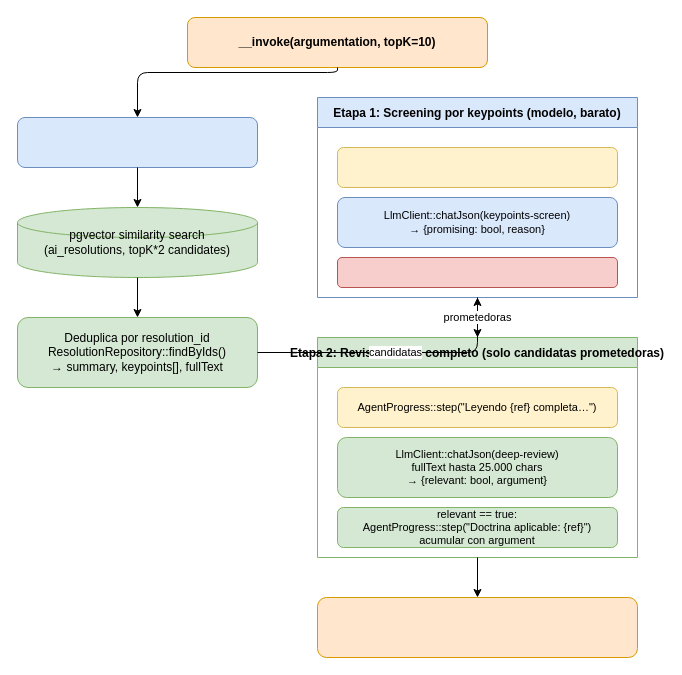
The diagram is 682 pixels wide and 675 high, and some of its shapes have lost their labels. The shapes that lost their labels are listed below. From the top down, each one's centre as x and y in pixels, then its label:
the point at 137,142: EmbeddingGenerator::generate(query)
the point at 477,167: AgentProgress::step("Comprobando {ref}…")
the point at 477,272: promising == false → descartar
the point at 477,627: formatRelevant() → Markdown con referencias, organismos y argumentos
